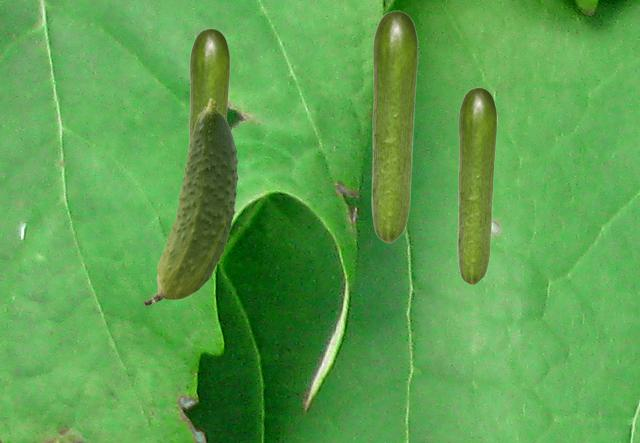cucumber: (144, 98, 238, 304), (371, 10, 417, 242), (457, 87, 496, 284), (189, 28, 229, 141)
